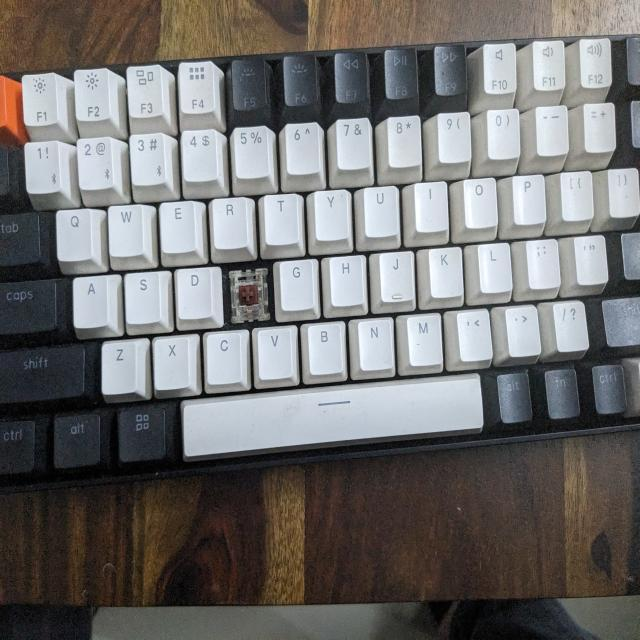key-switch: (226, 265, 273, 323)
